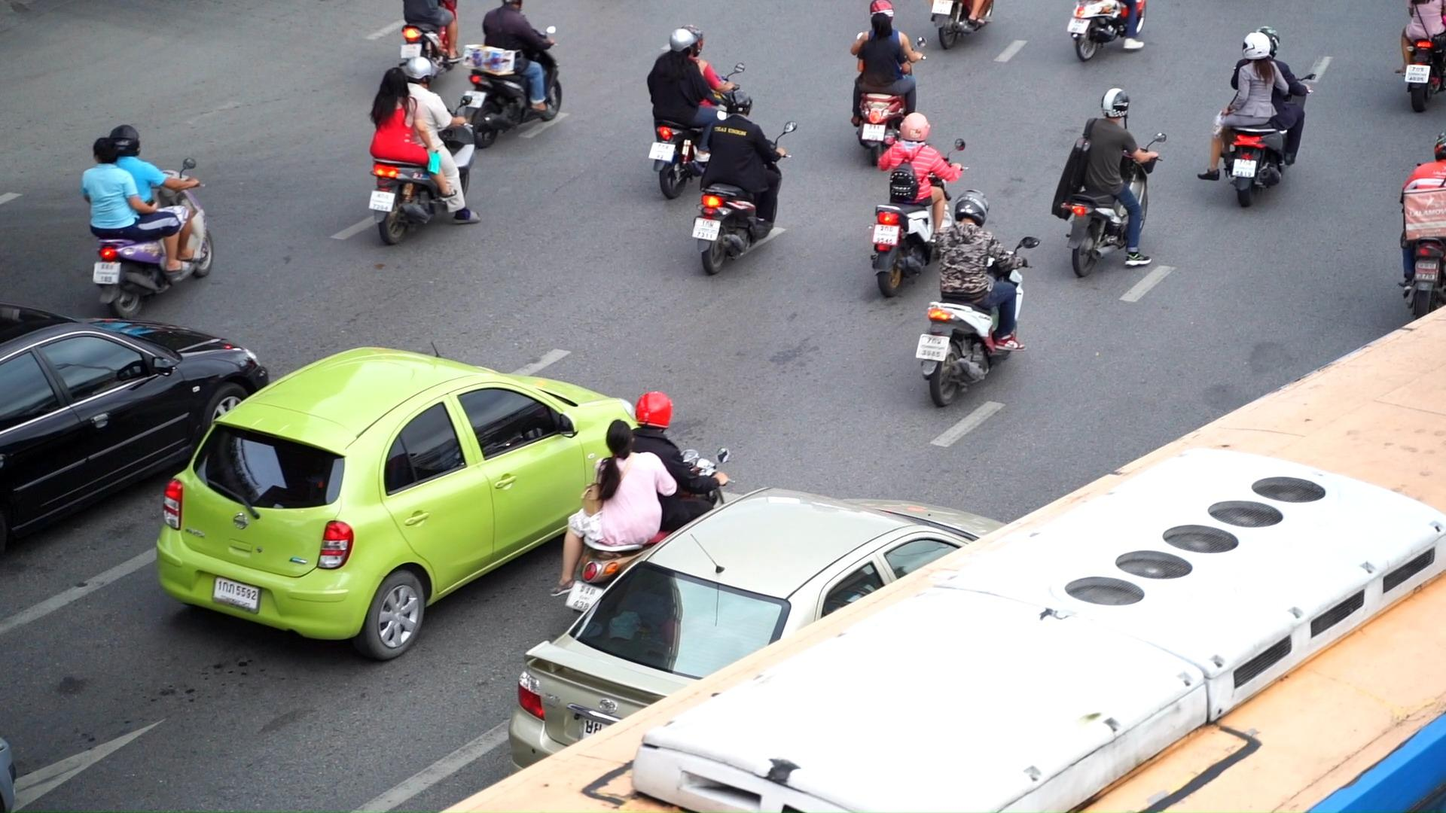driver: (548, 391, 737, 615), (917, 188, 1040, 408), (81, 124, 213, 320), (1051, 87, 1166, 278), (1197, 25, 1316, 207), (369, 56, 481, 246), (693, 91, 798, 275), (867, 112, 969, 297), (647, 24, 745, 200), (462, 0, 562, 149), (850, 0, 926, 166), (1399, 130, 1446, 319), (1394, 0, 1446, 113)
helmet: (635, 391, 672, 430), (954, 188, 990, 228), (405, 56, 440, 90), (109, 125, 141, 157), (900, 111, 930, 142), (1100, 88, 1130, 119), (1254, 25, 1279, 59), (670, 29, 698, 58), (1243, 32, 1271, 60), (680, 24, 703, 57), (726, 90, 753, 116), (869, 0, 894, 24), (1435, 131, 1446, 161)
no-helmet: (607, 419, 635, 460), (379, 67, 409, 95), (93, 138, 118, 163), (871, 13, 892, 36)
